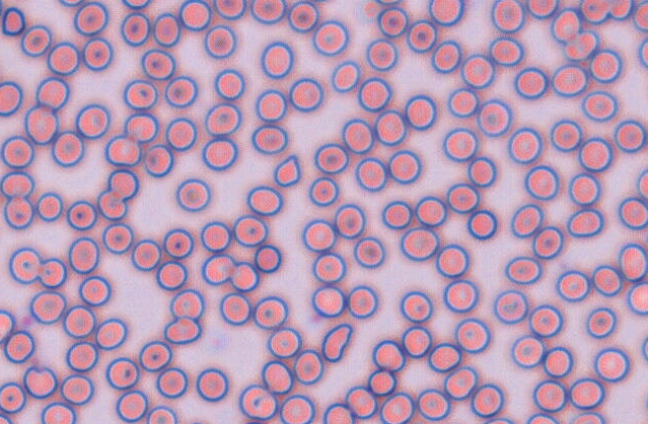RBC: (238, 384, 277, 420), (23, 104, 58, 144), (312, 19, 348, 56), (477, 98, 512, 136), (507, 126, 542, 164), (400, 226, 439, 260), (454, 317, 490, 353), (593, 347, 630, 382), (75, 103, 110, 139), (578, 136, 613, 172), (524, 164, 559, 200), (29, 290, 66, 324), (201, 136, 238, 170), (551, 63, 588, 97), (204, 102, 241, 136), (260, 40, 293, 78), (73, 0, 108, 35), (357, 76, 392, 111), (493, 289, 528, 324), (442, 127, 478, 161), (8, 246, 41, 283), (51, 130, 84, 167), (253, 295, 288, 329), (460, 53, 494, 88), (301, 218, 336, 252), (288, 77, 323, 111), (442, 279, 478, 312), (374, 109, 407, 145), (341, 117, 374, 153), (404, 94, 437, 130), (104, 134, 141, 166), (568, 377, 605, 409), (581, 89, 618, 121), (250, 123, 288, 154), (617, 242, 647, 281), (435, 243, 469, 277), (443, 365, 477, 399), (35, 76, 69, 110), (470, 383, 504, 417), (46, 41, 80, 75), (529, 303, 563, 337), (589, 48, 622, 83), (513, 66, 548, 99), (232, 214, 267, 247), (555, 269, 590, 302), (175, 178, 210, 211), (532, 379, 567, 412), (68, 236, 99, 273), (0, 135, 34, 168), (203, 24, 236, 58), (62, 304, 95, 338), (105, 356, 139, 389), (490, 0, 524, 33), (510, 203, 543, 237), (195, 367, 228, 401), (510, 335, 544, 368), (388, 149, 421, 183), (371, 339, 405, 372), (365, 37, 398, 71), (613, 118, 646, 152), (564, 29, 599, 61), (379, 391, 414, 423), (169, 288, 204, 320), (261, 359, 293, 394), (123, 78, 158, 110), (355, 156, 387, 191), (311, 285, 346, 317), (313, 142, 348, 174), (140, 48, 175, 80), (293, 348, 324, 384), (123, 112, 159, 143), (266, 327, 302, 358), (246, 185, 282, 216), (504, 255, 542, 284), (566, 208, 604, 237), (568, 172, 601, 205), (115, 389, 148, 422), (549, 118, 582, 151), (165, 116, 197, 150), (201, 253, 235, 285), (164, 75, 198, 107), (60, 373, 94, 405), (416, 388, 450, 420), (312, 251, 346, 283), (255, 88, 287, 122), (399, 290, 433, 322), (550, 8, 581, 43), (334, 203, 365, 238), (279, 393, 315, 423), (163, 316, 201, 344), (3, 330, 35, 363), (107, 168, 139, 201), (219, 292, 251, 325), (345, 385, 377, 418), (414, 195, 447, 227), (138, 340, 172, 371), (82, 36, 113, 70), (532, 225, 563, 259), (346, 284, 377, 318), (488, 36, 523, 66), (20, 24, 52, 56), (95, 317, 127, 349), (78, 275, 111, 306), (406, 19, 437, 52), (178, 0, 211, 31), (401, 325, 432, 358), (65, 341, 98, 372), (155, 367, 188, 398), (446, 182, 479, 213), (427, 342, 461, 372), (143, 143, 173, 177), (120, 12, 150, 46), (431, 39, 461, 73), (151, 12, 180, 47), (101, 222, 133, 253), (287, 0, 318, 32), (353, 236, 384, 268), (591, 264, 622, 296), (200, 220, 231, 252), (214, 68, 245, 100), (3, 196, 33, 229), (131, 238, 161, 271), (377, 6, 408, 37), (66, 199, 97, 230), (447, 86, 478, 117), (162, 227, 193, 258), (330, 60, 360, 92), (543, 346, 573, 378), (155, 260, 187, 290), (467, 208, 497, 240), (586, 306, 616, 338), (618, 196, 647, 229), (0, 170, 34, 198), (97, 189, 127, 220), (37, 257, 67, 288), (308, 176, 339, 206), (428, 0, 464, 25), (230, 261, 259, 292), (381, 200, 412, 229), (467, 156, 496, 187), (250, 0, 286, 24), (35, 191, 63, 221), (0, 381, 26, 413), (0, 80, 23, 116), (40, 401, 76, 423), (367, 369, 396, 396), (254, 244, 281, 273), (0, 6, 25, 35), (626, 281, 647, 315), (579, 0, 610, 23), (322, 402, 354, 423), (213, 0, 246, 19), (526, 0, 558, 19), (146, 405, 177, 423), (0, 309, 15, 343), (609, 0, 633, 20), (570, 411, 605, 423), (633, 2, 647, 31), (525, 412, 559, 423), (362, 0, 382, 18), (637, 36, 647, 68), (637, 167, 647, 199), (121, 0, 151, 9), (483, 416, 514, 423), (641, 334, 648, 361), (57, 0, 84, 6), (375, 0, 403, 5), (0, 413, 13, 423), (0, 0, 3, 16)
Schistocyte: (321, 323, 353, 363), (23, 366, 58, 399), (273, 153, 301, 186)
